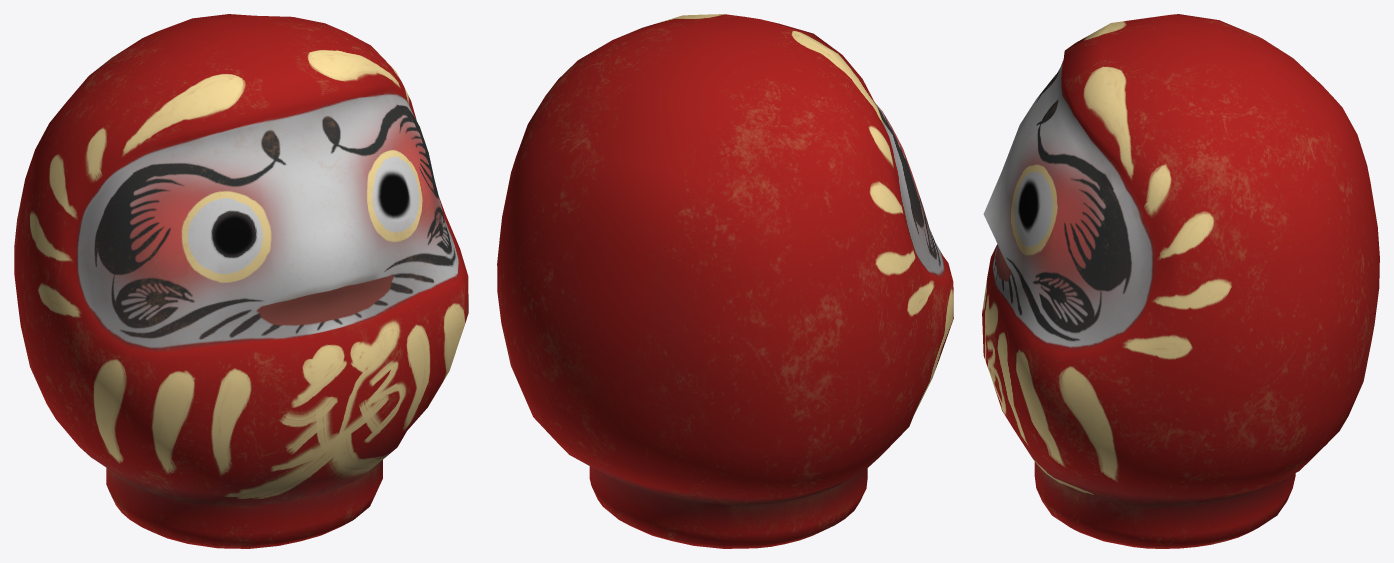
File: Darumasmil.glb
3 renders of one model, left to right at view 1: azimuth 30°, elevation 25°; view 2: azimuth 150°, elevation 25°; view 3: azimuth 270°, elevation 25°, orthographic.
Parts seen in each view (by area): view 1: Daruma_low; view 2: Daruma_low; view 3: Daruma_low.
Boxes of the visible parts, box(x1,y1,x2,y2) form: Daruma_low: box(14, 14, 468, 548); Daruma_low: box(497, 14, 953, 548); Daruma_low: box(982, 14, 1379, 548).
Bounding box in the file's own units: 33.11 × 38.13 × 29.93.
1 material, 1 textured.
